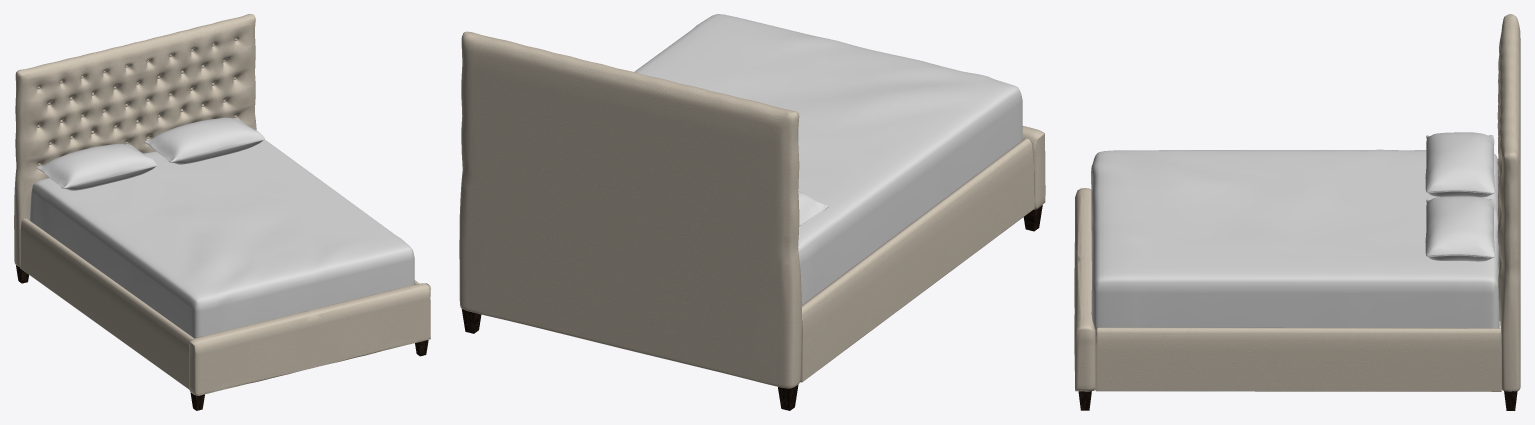
Rendered from abo-B07B4ZM56C.glb.
3 views of the same model, side by side, from view 1: azimuth 30°, elevation 25°; view 2: azimuth 150°, elevation 25°; view 3: azimuth 270°, elevation 25° (orthographic). The views are drawn at different scales.
Bounding box in the file's own units: 1.7 × 1.43 × 2.23.
Materials: 1 (1 with a texture image).
